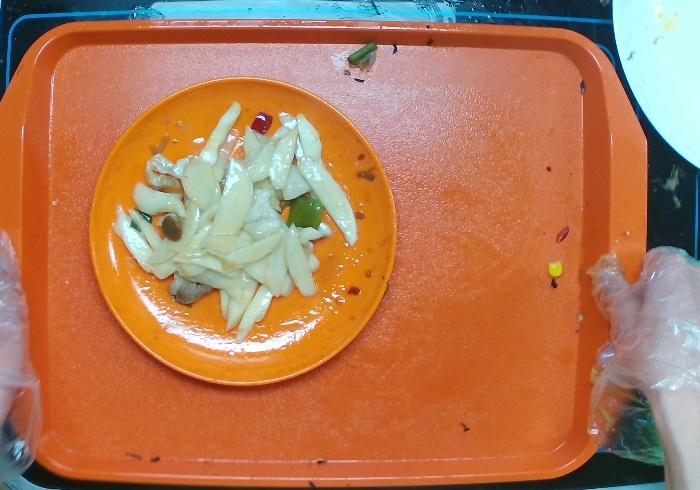HZYJPL-Ju_Huang_Yuan_Pan: (82, 70, 405, 393)
